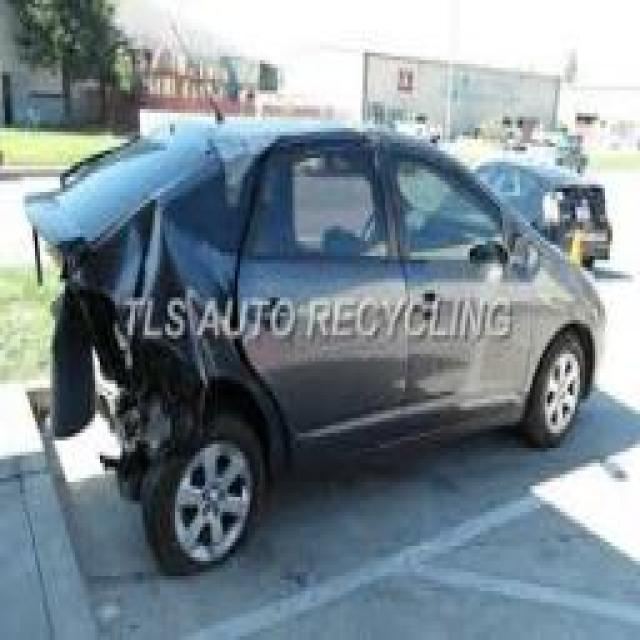Bumper: (28, 305, 142, 497)
Fender: (125, 173, 232, 376)
Light: (78, 286, 100, 365)
